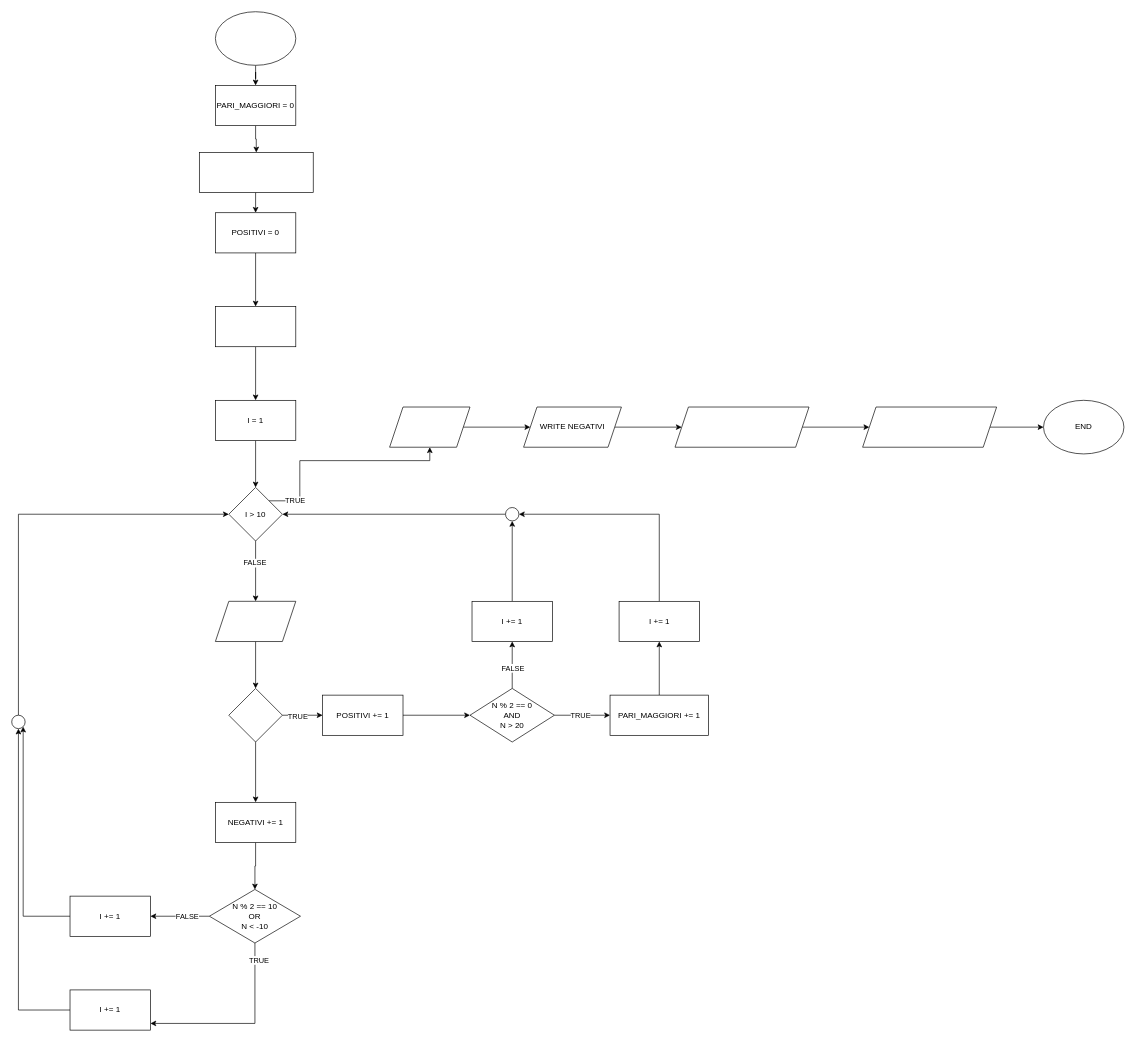
This 1136x1042 diagram has some shape labels left out. The box of each missing label's shape, as (x1, y1, x2, y2) in pixels:
N > 0: (228, 688, 282, 742)
NEGATIVI = 0: (215, 306, 296, 347)
NEGATIVI_DISPARI= 0: (199, 152, 313, 193)
READ N: (215, 601, 296, 642)
START: (215, 11, 296, 65)
WRITE DISPARI_MINORI: (862, 406, 997, 447)
WRITE PARI_MAGGIORI: (674, 406, 809, 447)
WRITE POSITIVI: (389, 406, 470, 447)
